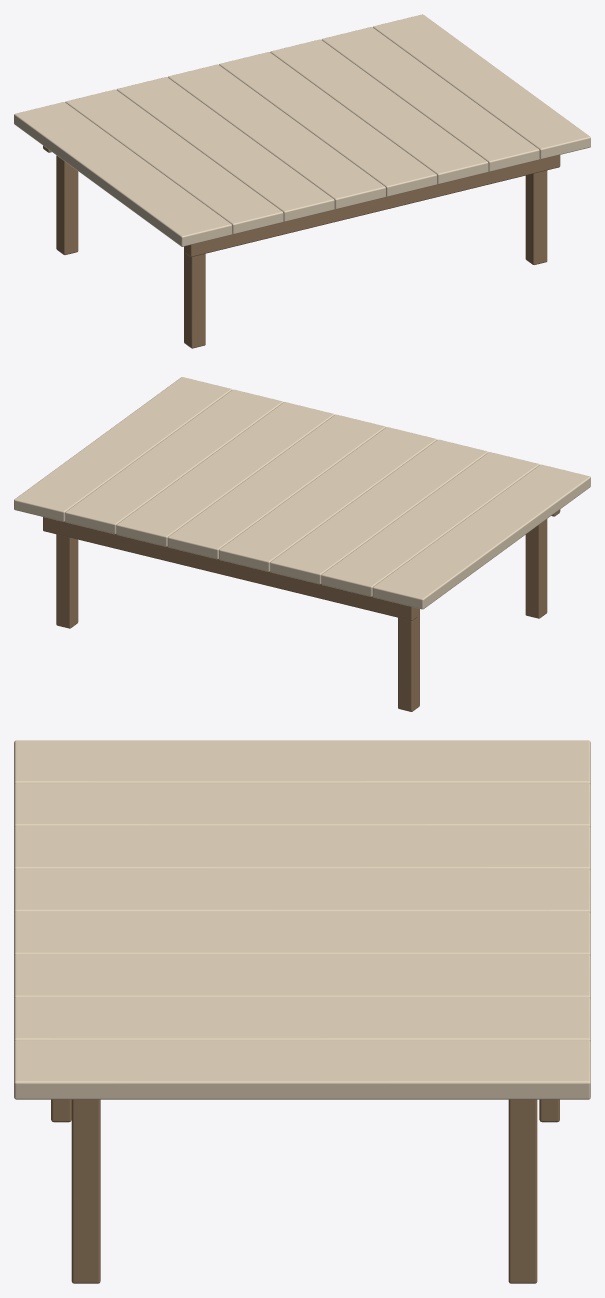
Rendered from craft-bench-v2.glb.
The picture shows the model from 3 angles, top to bottom: view 1: azimuth 30°, elevation 25°; view 2: azimuth 150°, elevation 25°; view 3: azimuth 270°, elevation 25°; orthographic projection. The views are drawn at different scales.
Parts seen in each view (by area): view 1: Solid oak worktop plank (×8), Bench leg (×3), Front bench apron; view 2: Solid oak worktop plank (×8), Bench leg (×3), Back bench apron; view 3: Solid oak worktop plank (×8), Bench leg (×2).
Boxes of the visible parts, left/top/right/bottom form: Solid oak worktop plank (×8): left=14, top=14, right=590, bottom=246; Bench leg (×3): left=56, top=155, right=547, bottom=348; Front bench apron: left=185, top=155, right=560, bottom=256; Solid oak worktop plank (×8): left=14, top=377, right=590, bottom=609; Bench leg (×3): left=56, top=519, right=547, bottom=711; Back bench apron: left=43, top=517, right=417, bottom=620; Solid oak worktop plank (×8): left=14, top=740, right=590, bottom=1099; Bench leg (×2): left=71, top=1099, right=537, bottom=1283.
Size of the model in its own units: 3.93 by 1.21 by 2.8.
